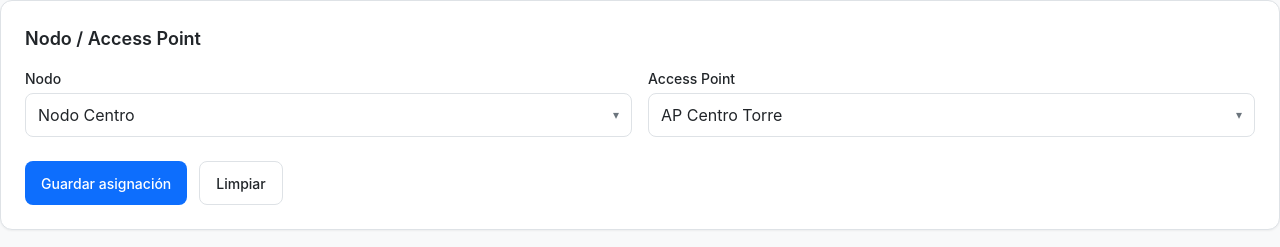
Test: ContractNetworkAssignmentPicker › disables the buttons and marks aria-busy while saving
Click the button with test id "network-assignment-save-button": (106, 183) [25,161,187,205]
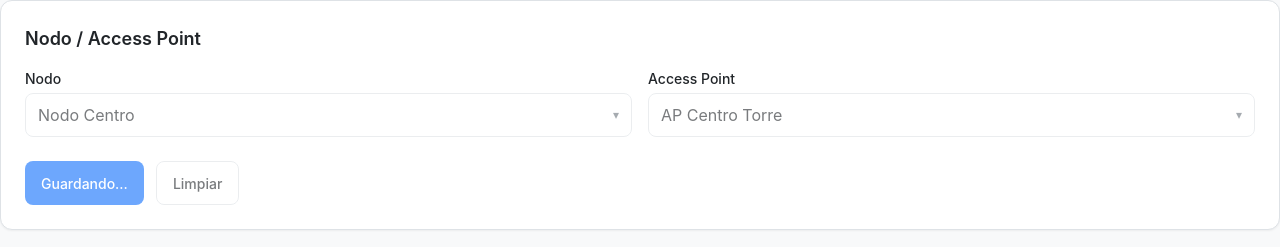
Now the button with test id "network-assignment-save-button" is disabled, box [25,161,144,205]
Now the button with test id "network-assignment-clear-button" is disabled, box [156,161,239,205]
